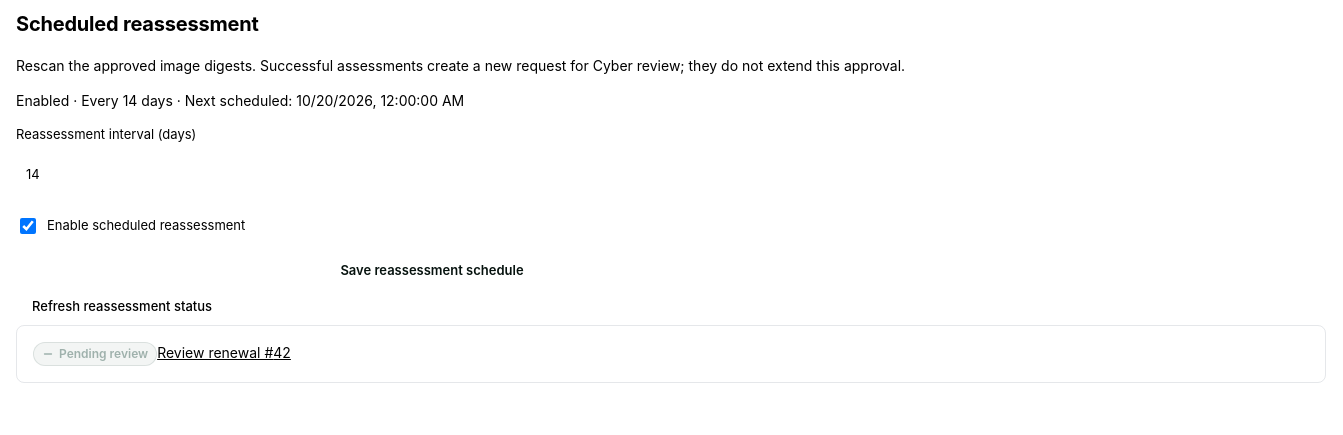
updates a scoped reassessment schedule with CSRF and links renewal review
Replace the text in the number field labelled "Reassessment interval (days)" with "21" at (432,175), box x1=16 y1=151 x2=848 y2=199
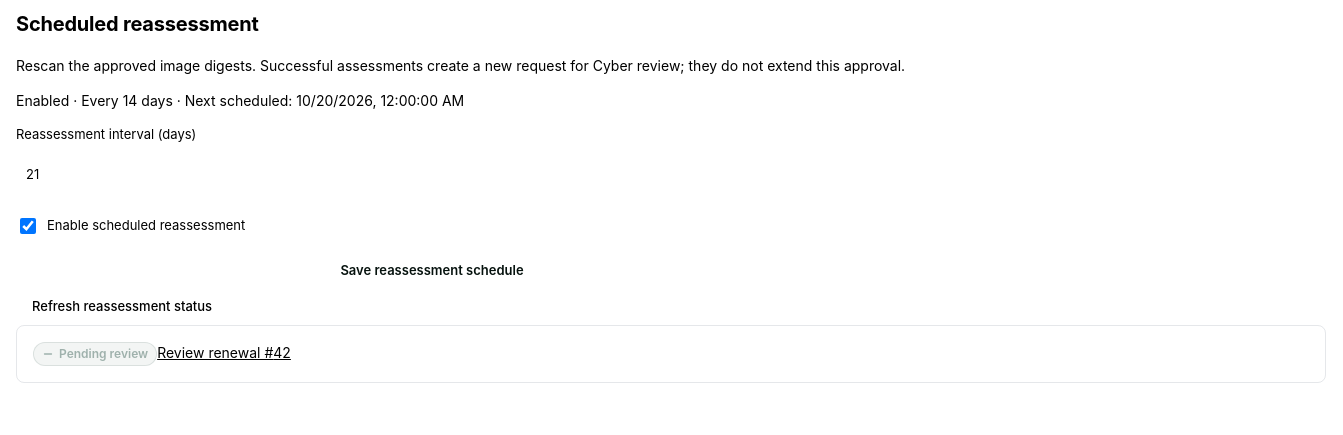
Click the checkbox labelled "Enable scheduled reassessment" at (28,226), box x1=20 y1=218 x2=36 y2=234
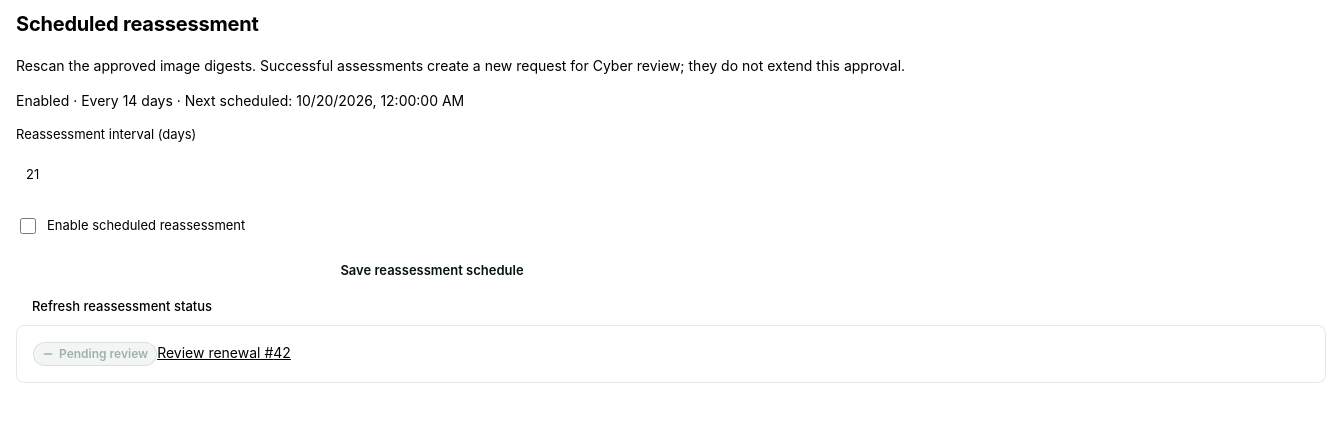
Click the button "Save reassessment schedule" at (432,271), box x1=16 y1=253 x2=848 y2=289
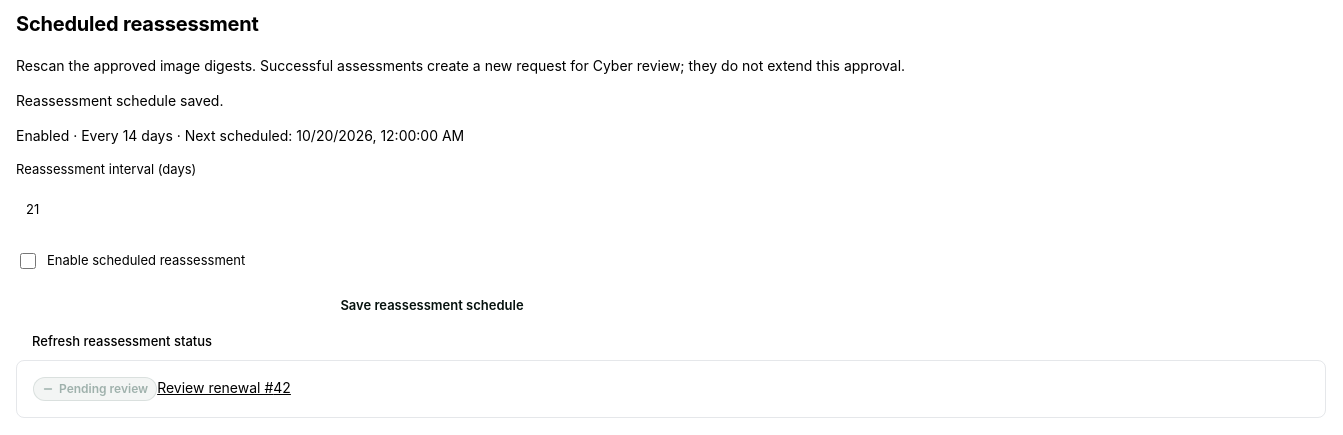
Expected: the text "Reassessment schedule saved." is shown, x1=16 y1=92 x2=224 y2=109
